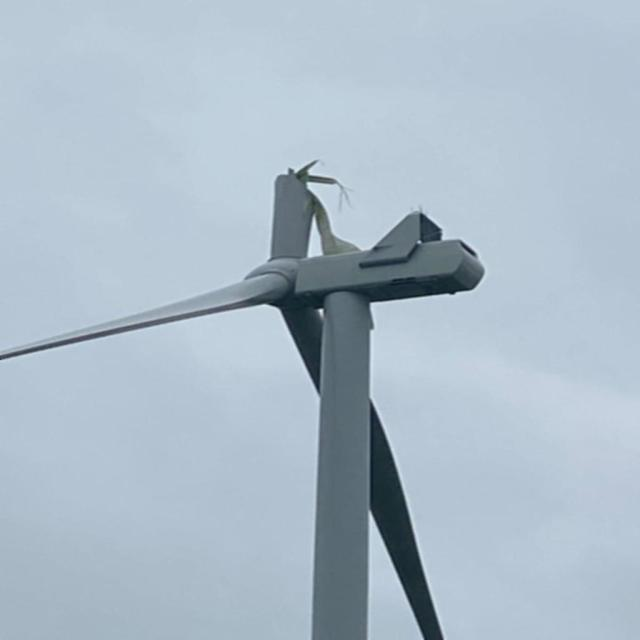crack: (262, 147, 379, 306)
